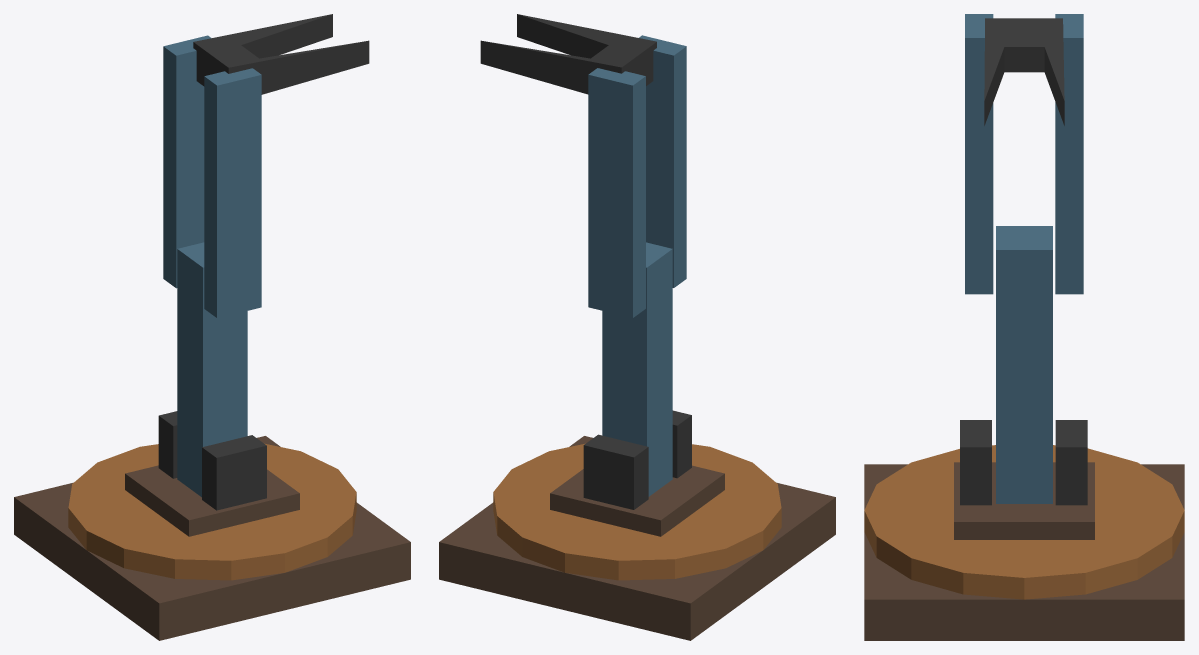
Rendered from robotic_arm.fbx.
3 renders of one model, left to right at view 1: azimuth 30°, elevation 25°; view 2: azimuth 150°, elevation 25°; view 3: azimuth 270°, elevation 25°, orthographic. The views are drawn at different scales.
Parts seen in each view (by area): view 1: Circle, Plane.001, Plane.004, Plane.002, Plane.005, Cube.002, Plane.003, Cube, Cube.001; view 2: Circle, Plane.001, Plane.005, Plane.002, Plane.004, Cube.002, Plane.003, Cube.001, Cube; view 3: Circle, Plane.001, Plane.002, Plane.005, Plane.004, Plane.003, Cube.002, Cube.001, Cube.
Part boxes in pixels (x1,y1,x2,y2): Circle: (68,443,356,580); Plane.001: (14,436,410,640); Plane.004: (204,68,261,318); Plane.002: (177,242,247,497); Plane.005: (163,35,211,288); Cube.002: (193,14,369,94); Plane.003: (125,465,299,536); Cube: (202,435,266,510); Cube.001: (158,411,177,478); Circle: (493,443,781,580); Plane.001: (439,436,835,640); Plane.005: (588,68,645,317); Plane.002: (602,242,672,496); Plane.004: (639,35,686,287); Cube.002: (480,14,656,94); Plane.003: (550,465,724,536); Cube.001: (583,434,648,509); Cube: (672,410,691,478); Circle: (864,445,1184,599); Plane.001: (864,464,1184,640); Plane.002: (996,226,1052,503); Plane.005: (1055,14,1083,294); Plane.004: (965,14,993,294); Plane.003: (954,462,1094,539); Cube.002: (984,18,1064,125); Cube.001: (1055,420,1087,505); Cube: (960,420,991,505).
Bounding box in the file's own units: 52.54 × 95.48 × 50.
